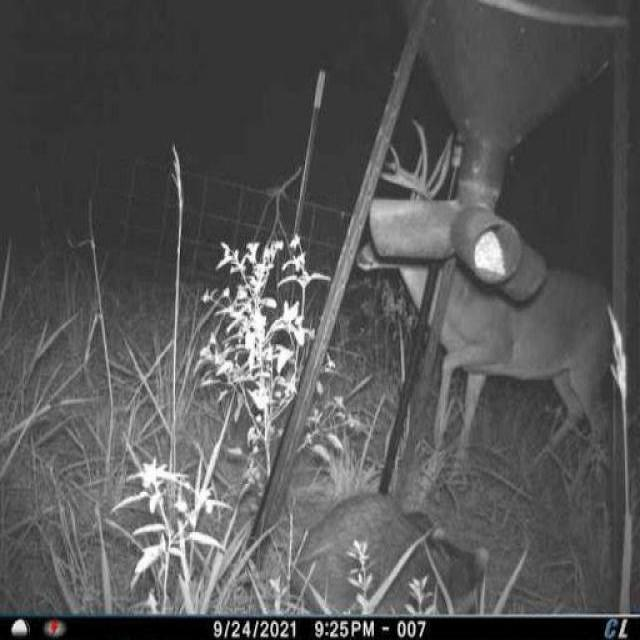deer: (358, 121, 606, 514)
